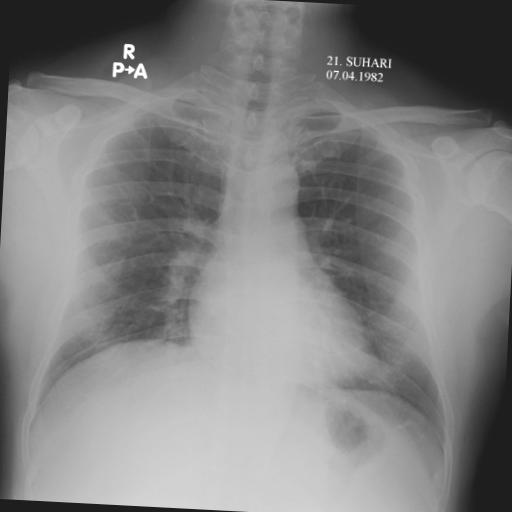kardiomegali: (22, 45, 474, 464)
